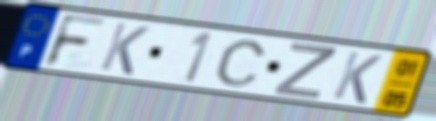1: (184, 32, 215, 86)
C: (212, 38, 270, 88)
F: (40, 12, 111, 70)
K: (96, 20, 152, 78), (329, 49, 385, 106)
Z: (270, 41, 339, 102)
